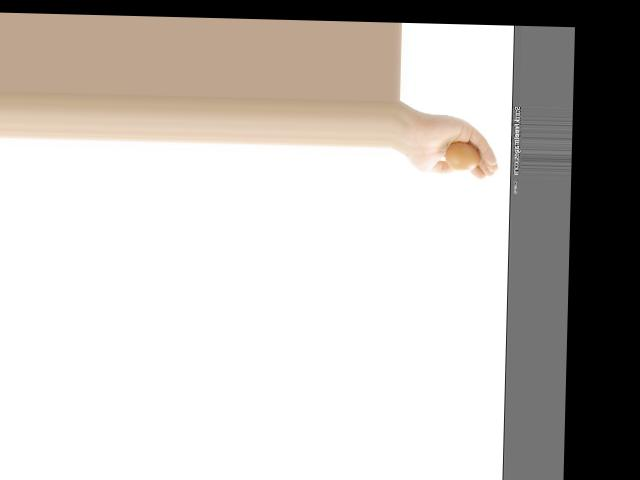egg: (444, 142, 482, 171)
